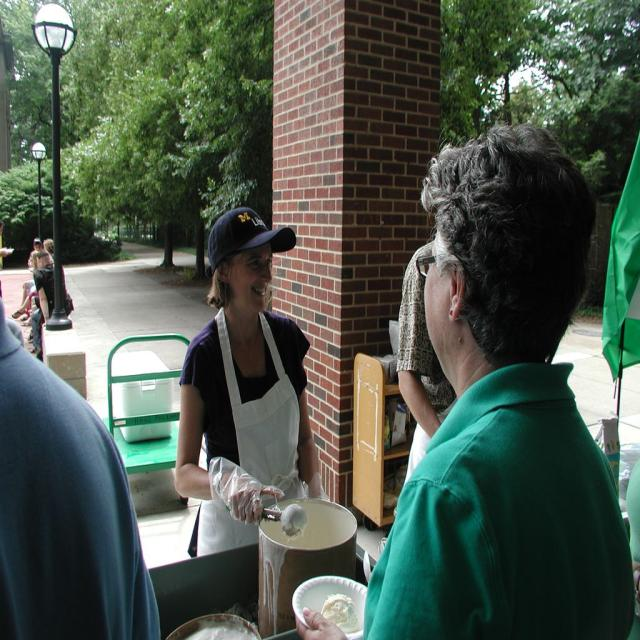Hat: (207, 208, 297, 274)
